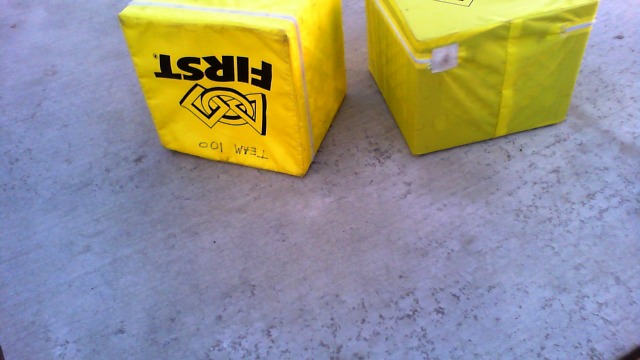cube: (117, 1, 347, 183), (366, 1, 594, 157)
